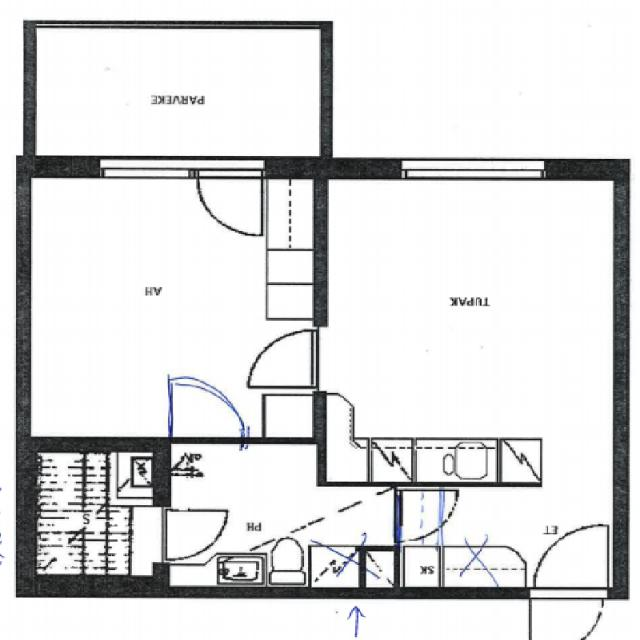door: (534, 522, 606, 598), (198, 157, 262, 237), (250, 331, 326, 388), (534, 588, 606, 640), (174, 383, 234, 444), (153, 454, 223, 503)
